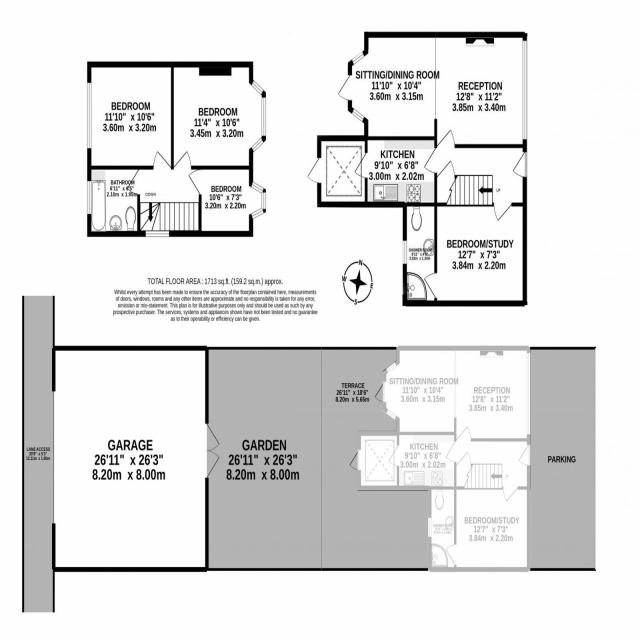DOOR: (511, 150, 527, 178), (423, 271, 438, 299), (436, 128, 456, 149), (422, 147, 437, 174), (337, 74, 352, 101), (188, 168, 202, 196), (493, 202, 512, 222), (173, 150, 192, 170), (153, 150, 172, 170), (354, 152, 368, 179), (126, 169, 140, 195)
ROOM: (337, 31, 528, 148), (423, 202, 527, 307), (171, 61, 266, 170), (87, 61, 174, 170), (353, 136, 437, 208), (187, 166, 267, 238)
WINDOW: (250, 180, 267, 220), (522, 39, 528, 141), (87, 82, 92, 149), (351, 50, 365, 65), (351, 108, 365, 123), (251, 80, 264, 96), (251, 137, 264, 153), (261, 97, 266, 137), (145, 230, 170, 238), (87, 180, 92, 215), (402, 240, 407, 265)
